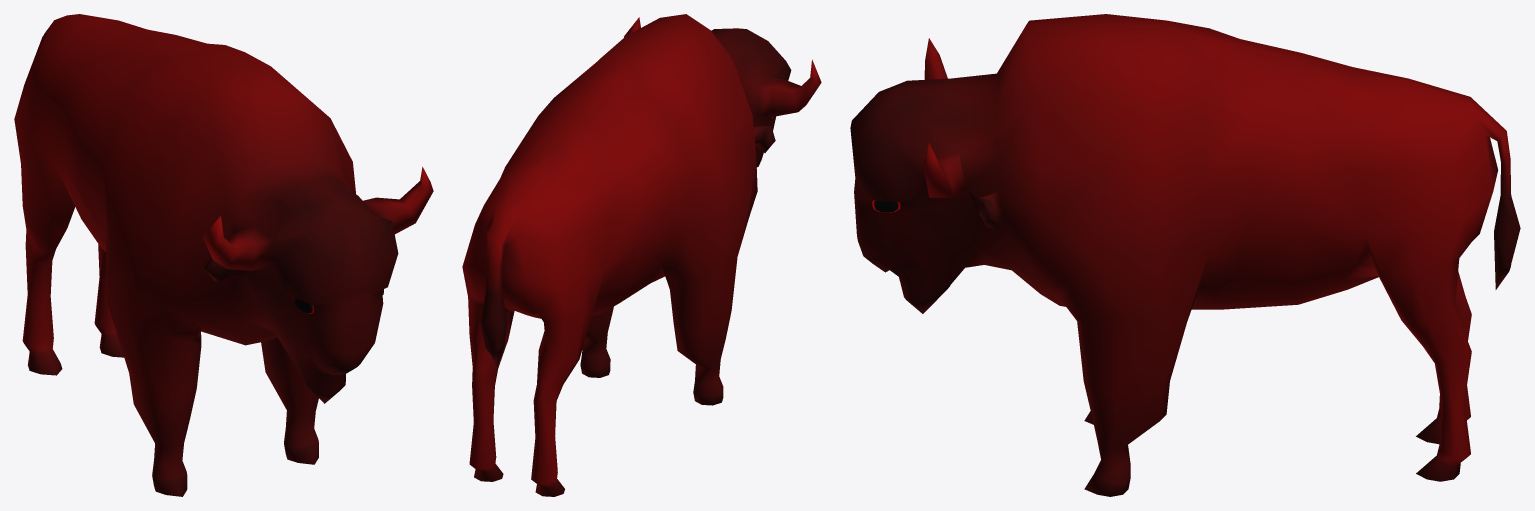
File: Animals_Bison.fbx
The picture shows the model from 3 angles, left to right: view 1: azimuth 30°, elevation 25°; view 2: azimuth 150°, elevation 25°; view 3: azimuth 270°, elevation 25°; orthographic projection. The views are drawn at different scales.
Visible parts, largest first — view 1: base; view 2: base; view 3: base.
Boxes of the visible parts, bbox=[...] form: base: bbox=[14, 14, 433, 496]; base: bbox=[462, 14, 821, 496]; base: bbox=[850, 14, 1520, 496].
Bounding box in the file's own units: 105 × 179 × 252.
